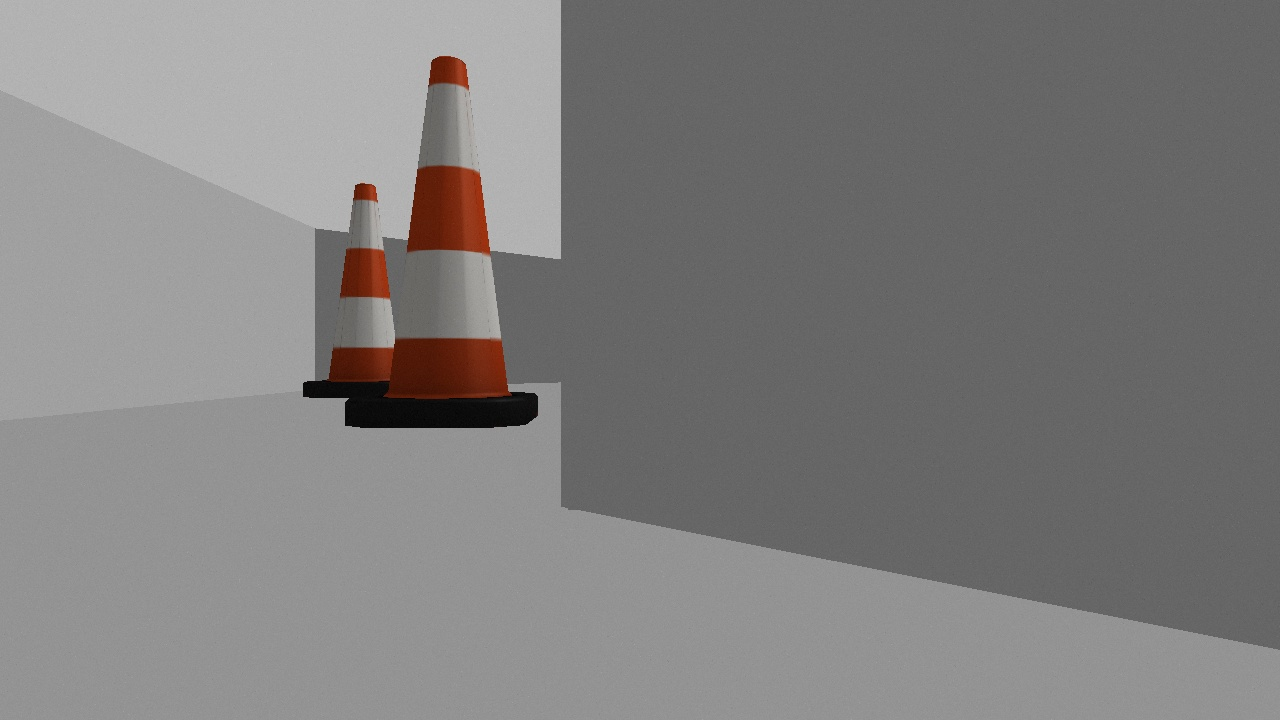barricade: (335, 51, 550, 435), (296, 177, 425, 400)
